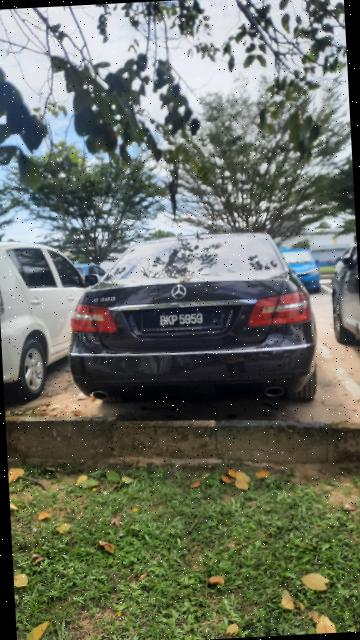License_Plate: (139, 304, 228, 337)
car: (65, 224, 328, 416)
